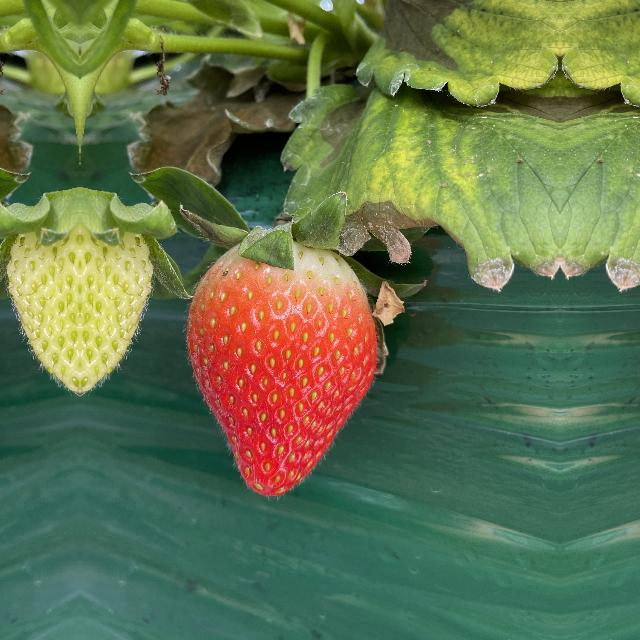Health_100: (178, 223, 382, 503)
Health_25: (80, 210, 142, 400), (18, 210, 80, 400)
